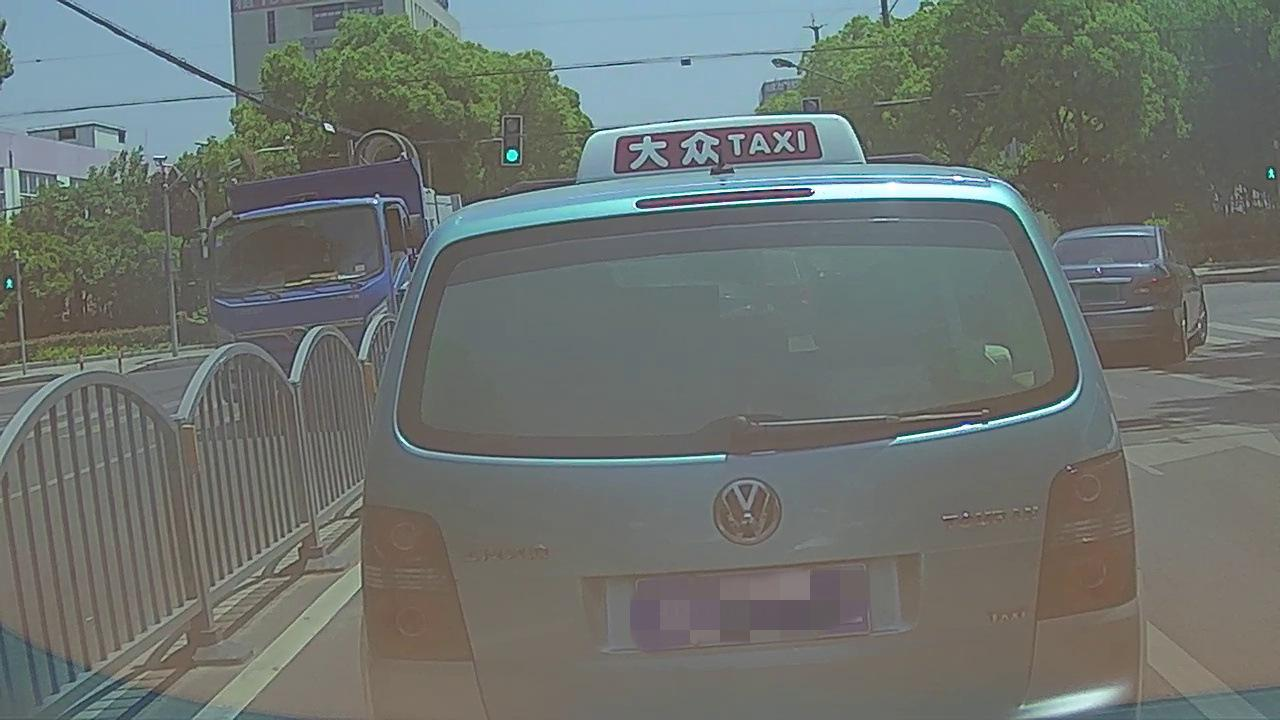traffic_light: (505, 117, 521, 166)
